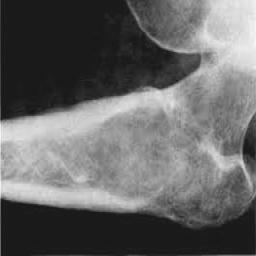cancer: (1, 86, 188, 216)
